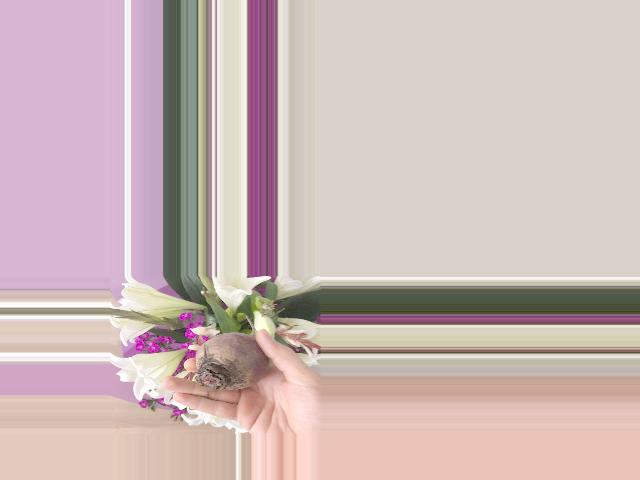beet: (195, 314, 269, 390)
